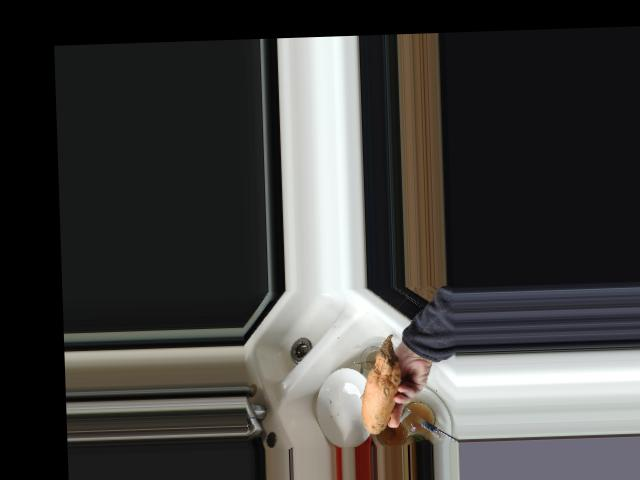sweet_potato: (356, 333, 403, 434)
